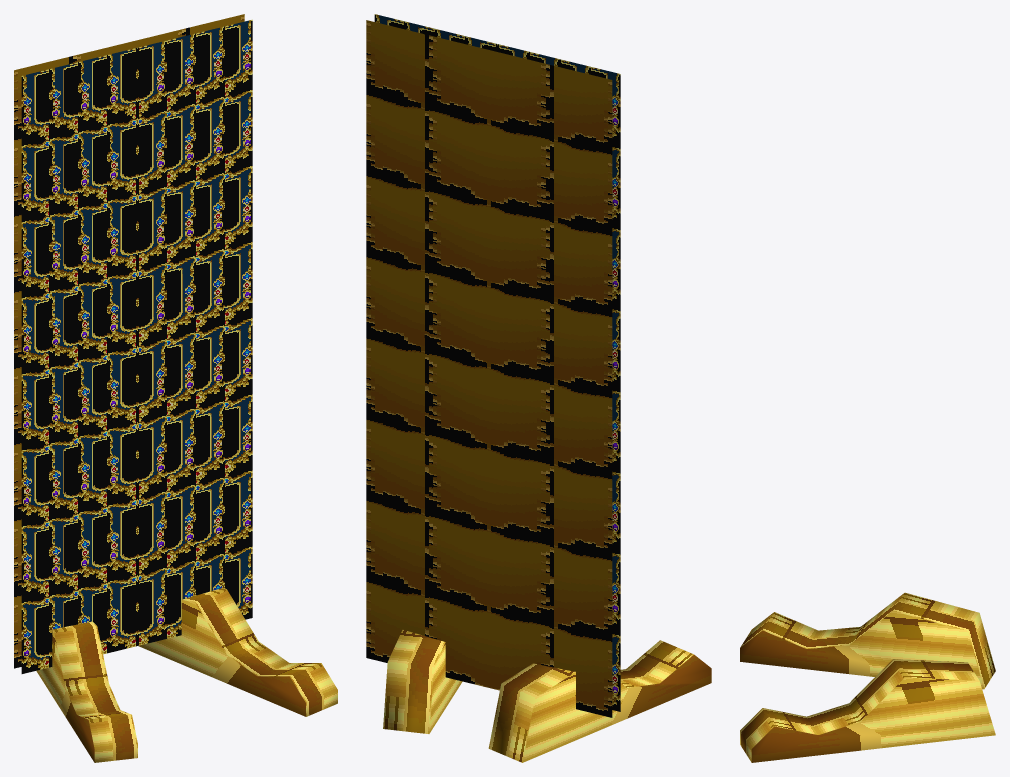
The picture shows the model from 3 angles, left to right: view 1: azimuth 30°, elevation 25°; view 2: azimuth 150°, elevation 25°; view 3: azimuth 270°, elevation 25°; orthographic projection. The views are drawn at different scales.
Parts seen in each view (by area): view 1: 3420kg_sh2_15; view 2: 3420kg_sh2_15; view 3: 3420kg_sh2_15.
Part boxes in pixels (x1=…): 3420kg_sh2_15: x1=14, y1=14, x2=337, y2=762; 3420kg_sh2_15: x1=366, y1=14, x2=711, y2=762; 3420kg_sh2_15: x1=740, y1=592, x2=995, y2=762.
Bounding box in the file's own units: 0.8057 × 1.99 × 0.7283.
4 materials, 4 textured.
